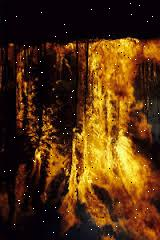fire: (58, 38, 159, 240), (14, 102, 56, 200)
